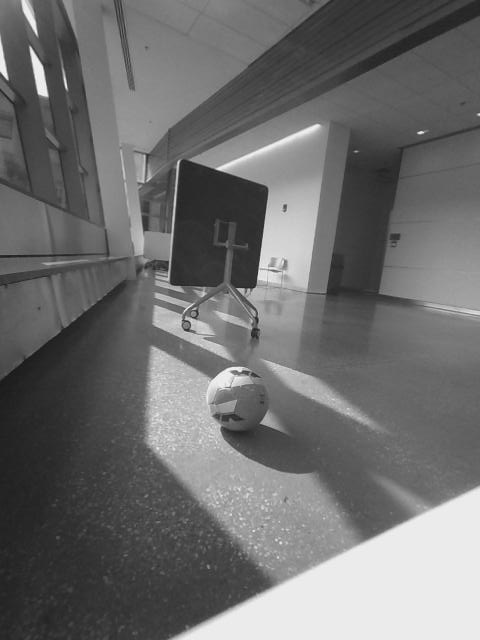ball: (206, 364, 274, 436)
